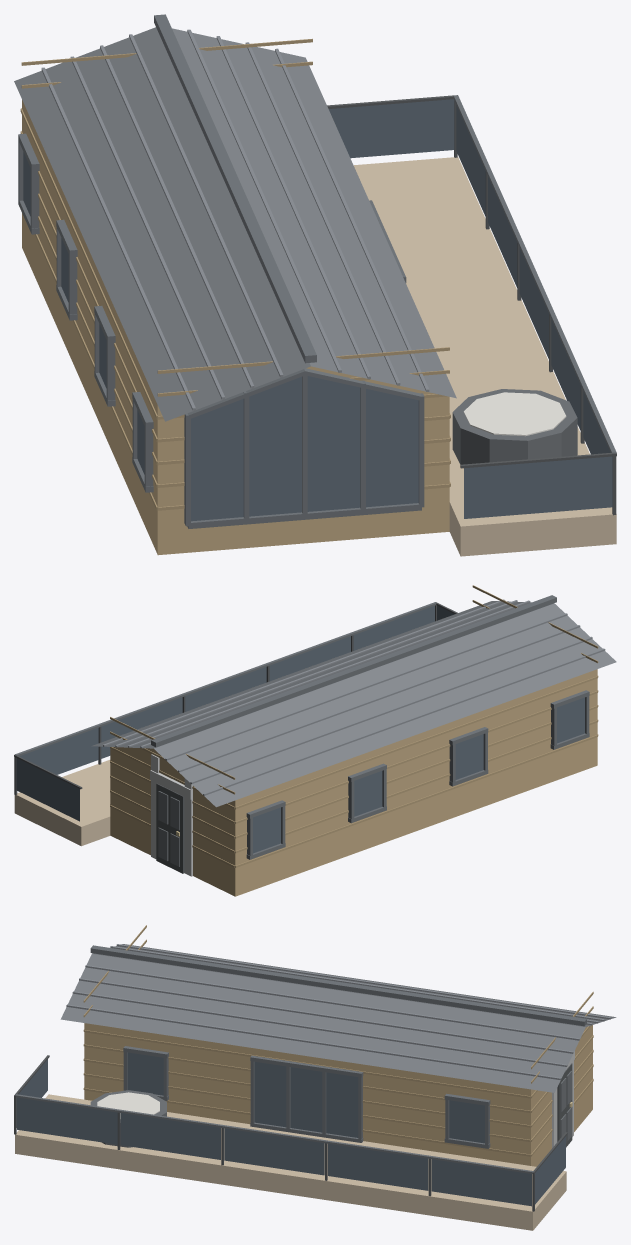
3 renders of one model, top to bottom at view 1: azimuth 30°, elevation 25°; view 2: azimuth 150°, elevation 25°; view 3: azimuth 270°, elevation 25°, orthographic. The views are drawn at different scales.
Parts seen in each view (by area): view 1: slate, larch, window_glass_013, door_wood, slate_dk, slate_lt, window_glass_006, door_wood_p, window_glass_007, band_dark, string, pipe (+5 smaller); view 2: slate, door_wood, slate_dk, slate_lt, door_wood_p, larch, window_glass_007, window_glass_005, stone_band, window_glass_004, window_glass_001, window_glass_002 (+8 smaller); view 3: slate, door_wood, larch, slate_dk, slate_lt, door_wood_p, window_glass_001, window_glass_003, window_glass_002, window_glass_004, window_glass_005, window_glass_009 (+12 smaller).
Boxes of the visible parts, left/top/right/bottom form: slate: left=14, top=27, right=456, bottom=421; larch: left=353, top=157, right=616, bottom=556; window_glass_013: left=191, top=376, right=418, bottom=521; door_wood: left=22, top=100, right=449, bottom=555; slate_dk: left=18, top=14, right=616, bottom=528; slate_lt: left=41, top=29, right=429, bottom=410; window_glass_006: left=464, top=456, right=612, bottom=518; door_wood_p: left=20, top=38, right=450, bottom=510; window_glass_007: left=328, top=99, right=454, bottom=158; band_dark: left=452, top=389, right=577, bottom=464; string: left=463, top=392, right=566, bottom=436; pipe: left=327, top=95, right=616, bottom=515; slate: left=91, top=601, right=616, bottom=807; door_wood: left=110, top=669, right=597, bottom=896; slate_dk: left=15, top=595, right=589, bottom=859; slate_lt: left=103, top=599, right=605, bottom=795; door_wood_p: left=110, top=585, right=598, bottom=867; larch: left=14, top=760, right=110, bottom=846; window_glass_007: left=16, top=758, right=79, bottom=821; window_glass_005: left=20, top=727, right=98, bottom=774; stone_band: left=150, top=754, right=192, bottom=876; window_glass_004: left=101, top=697, right=182, bottom=758; window_glass_001: left=353, top=606, right=434, bottom=650; window_glass_002: left=269, top=636, right=350, bottom=681; slate: left=60, top=944, right=616, bottom=1092; door_wood: left=84, top=1023, right=592, bottom=1166; larch: left=15, top=1094, right=566, bottom=1230; slate_dk: left=15, top=945, right=586, bottom=1173; slate_lt: left=66, top=944, right=610, bottom=1080; door_wood_p: left=83, top=925, right=593, bottom=1156; window_glass_001: left=17, top=1097, right=117, bottom=1144; window_glass_003: left=224, top=1128, right=324, bottom=1175; window_glass_002: left=120, top=1113, right=220, bottom=1159; window_glass_004: left=328, top=1143, right=428, bottom=1190; window_glass_005: left=431, top=1159, right=531, bottom=1206; window_glass_009: left=290, top=1067, right=322, bottom=1132.
Size of the model in its own units: 10.73 by 3.41 by 14.28.
